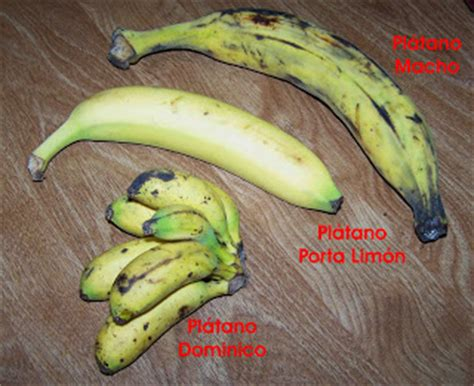banana: (185, 13, 450, 243), (65, 83, 345, 221), (91, 282, 224, 380), (106, 244, 217, 330), (127, 165, 232, 248), (139, 206, 222, 257)
